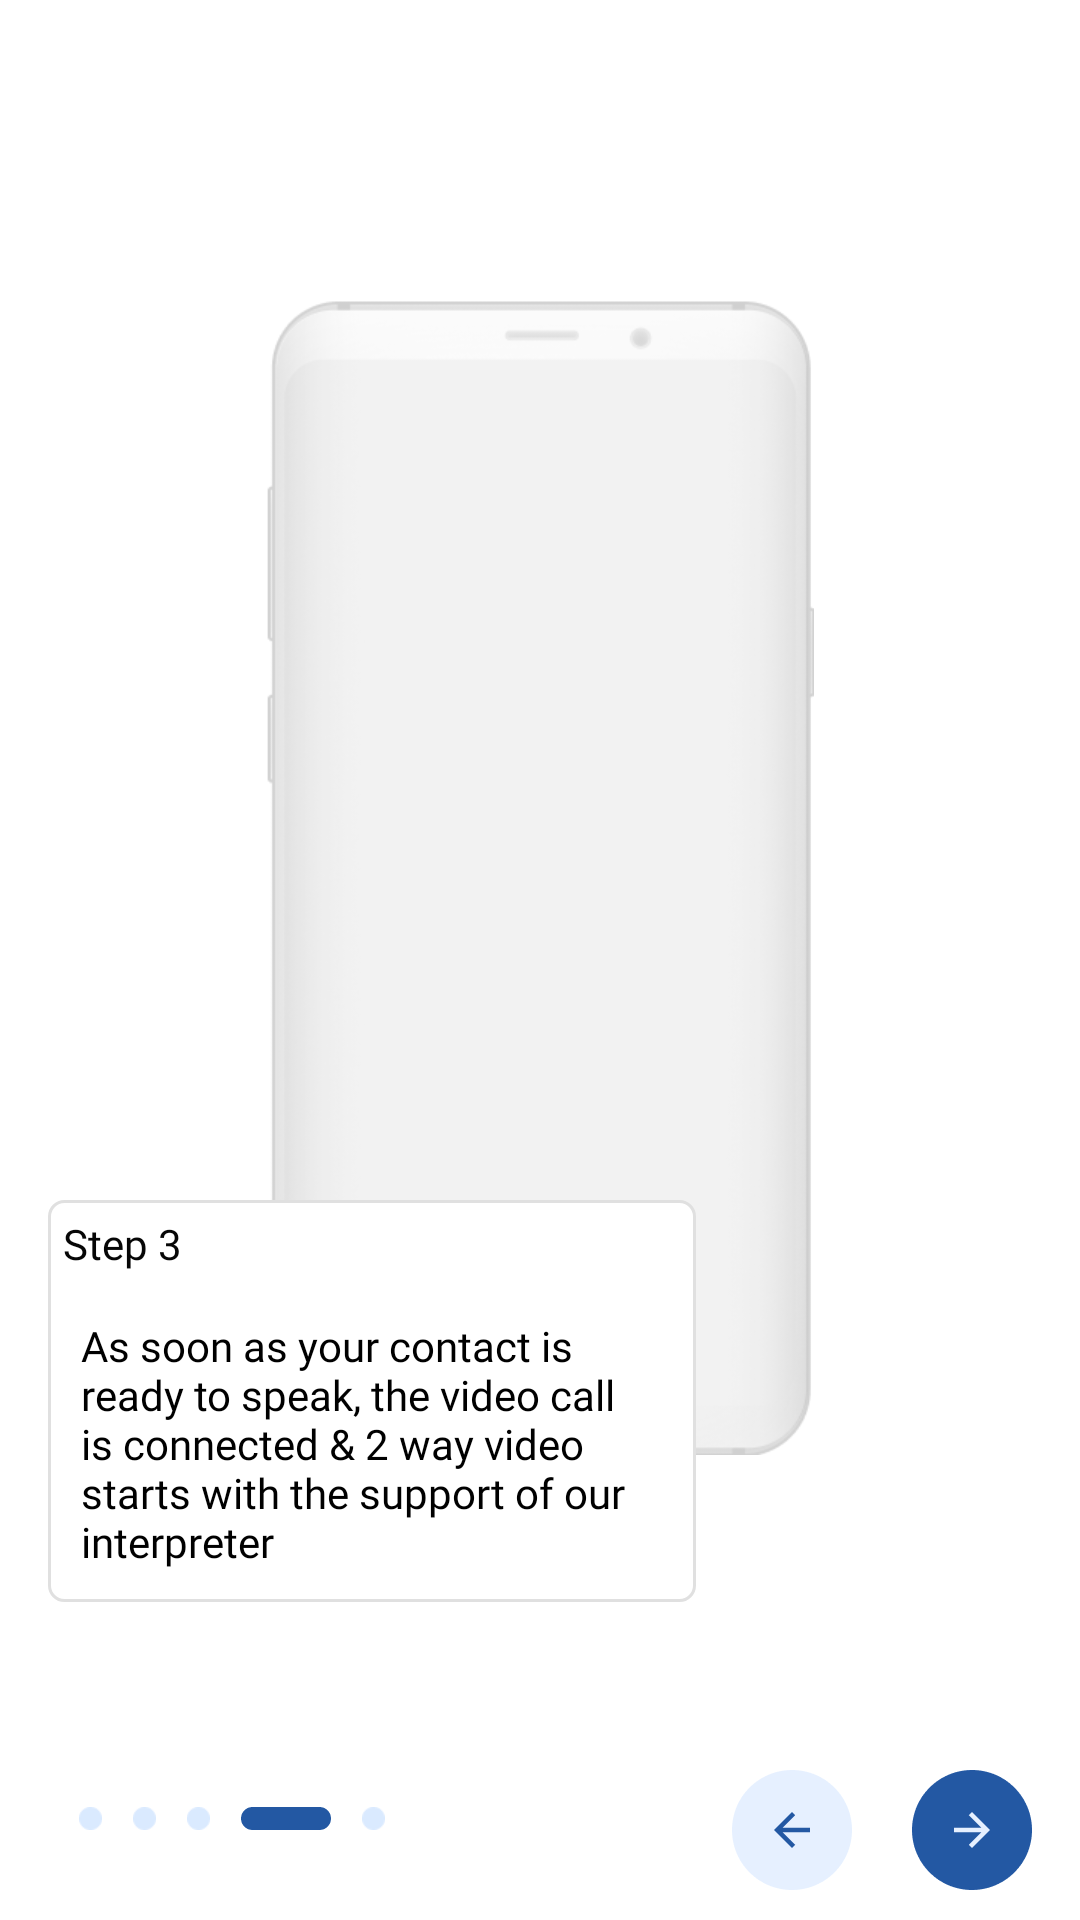

Icon bounding boxes for this 1080x1920 phone screenshot, format bbox(x1, y1, x2, y2):
leftarrow: bbox(732, 1770, 852, 1890)
rightarrow: bbox(912, 1770, 1032, 1890)
